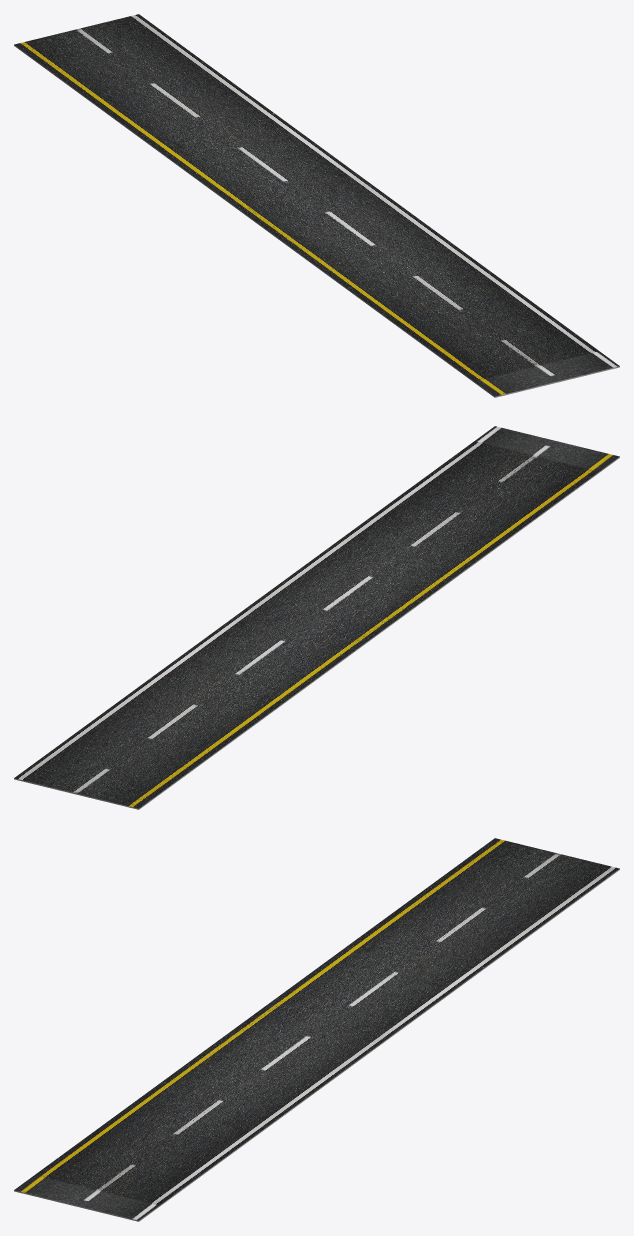
The model's file is road.fbx.
The picture shows the model from 3 angles, top to bottom: view 1: azimuth 30°, elevation 25°; view 2: azimuth 150°, elevation 25°; view 3: azimuth 330°, elevation 25°; orthographic projection.
Visible parts, largest first — view 1: Road; view 2: Road; view 3: Road.
Part boxes in pixels (x1,y1,x2,y2): Road: (14,14,619,397); Road: (14,426,619,809); Road: (14,838,619,1221).
Bounding box in the file's own units: 846 × 8 × 5641.
